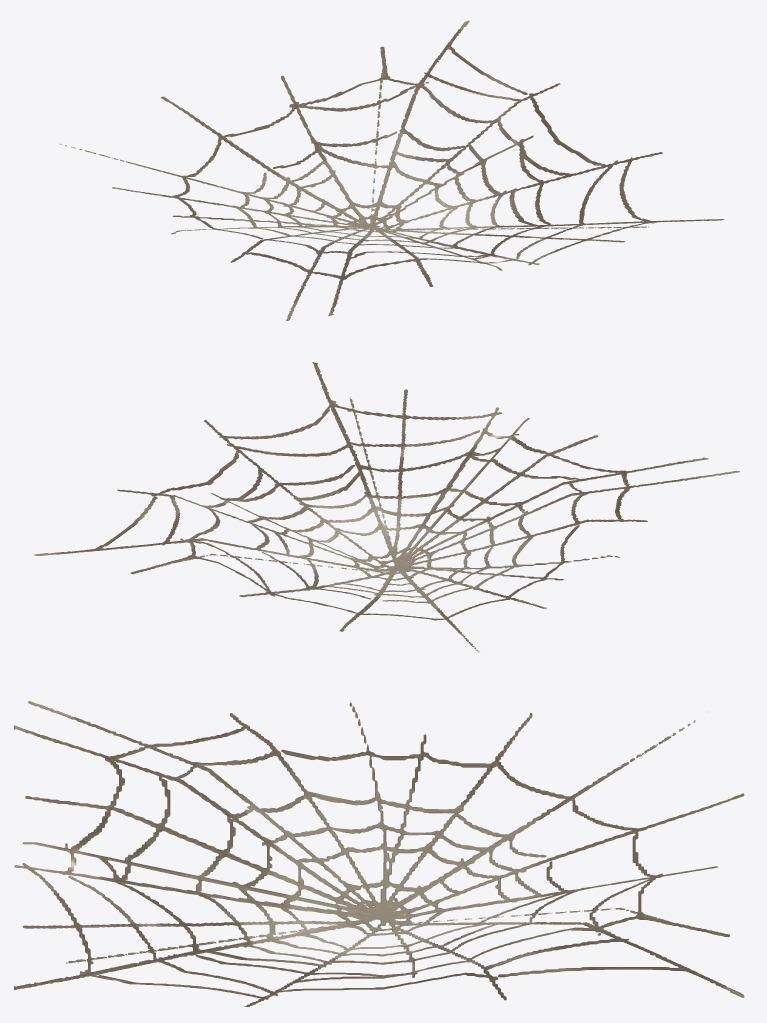
The model's file is fb_jianyu_zhizhuwang01.FBX.
3 renders of one model, top to bottom at view 1: azimuth 30°, elevation 25°; view 2: azimuth 150°, elevation 25°; view 3: azimuth 270°, elevation 25°, orthographic. The views are drawn at different scales.
Visible parts, largest first — view 1: fb_jianyu_zhizhuwang01; view 2: fb_jianyu_zhizhuwang01; view 3: fb_jianyu_zhizhuwang01.
Part boxes in pixels (bbox=[...]): fb_jianyu_zhizhuwang01: bbox=[45, 20, 724, 320]; fb_jianyu_zhizhuwang01: bbox=[34, 362, 739, 652]; fb_jianyu_zhizhuwang01: bbox=[14, 701, 744, 1006].
Size of the model in its own units: 300 by 34.76 by 300.
